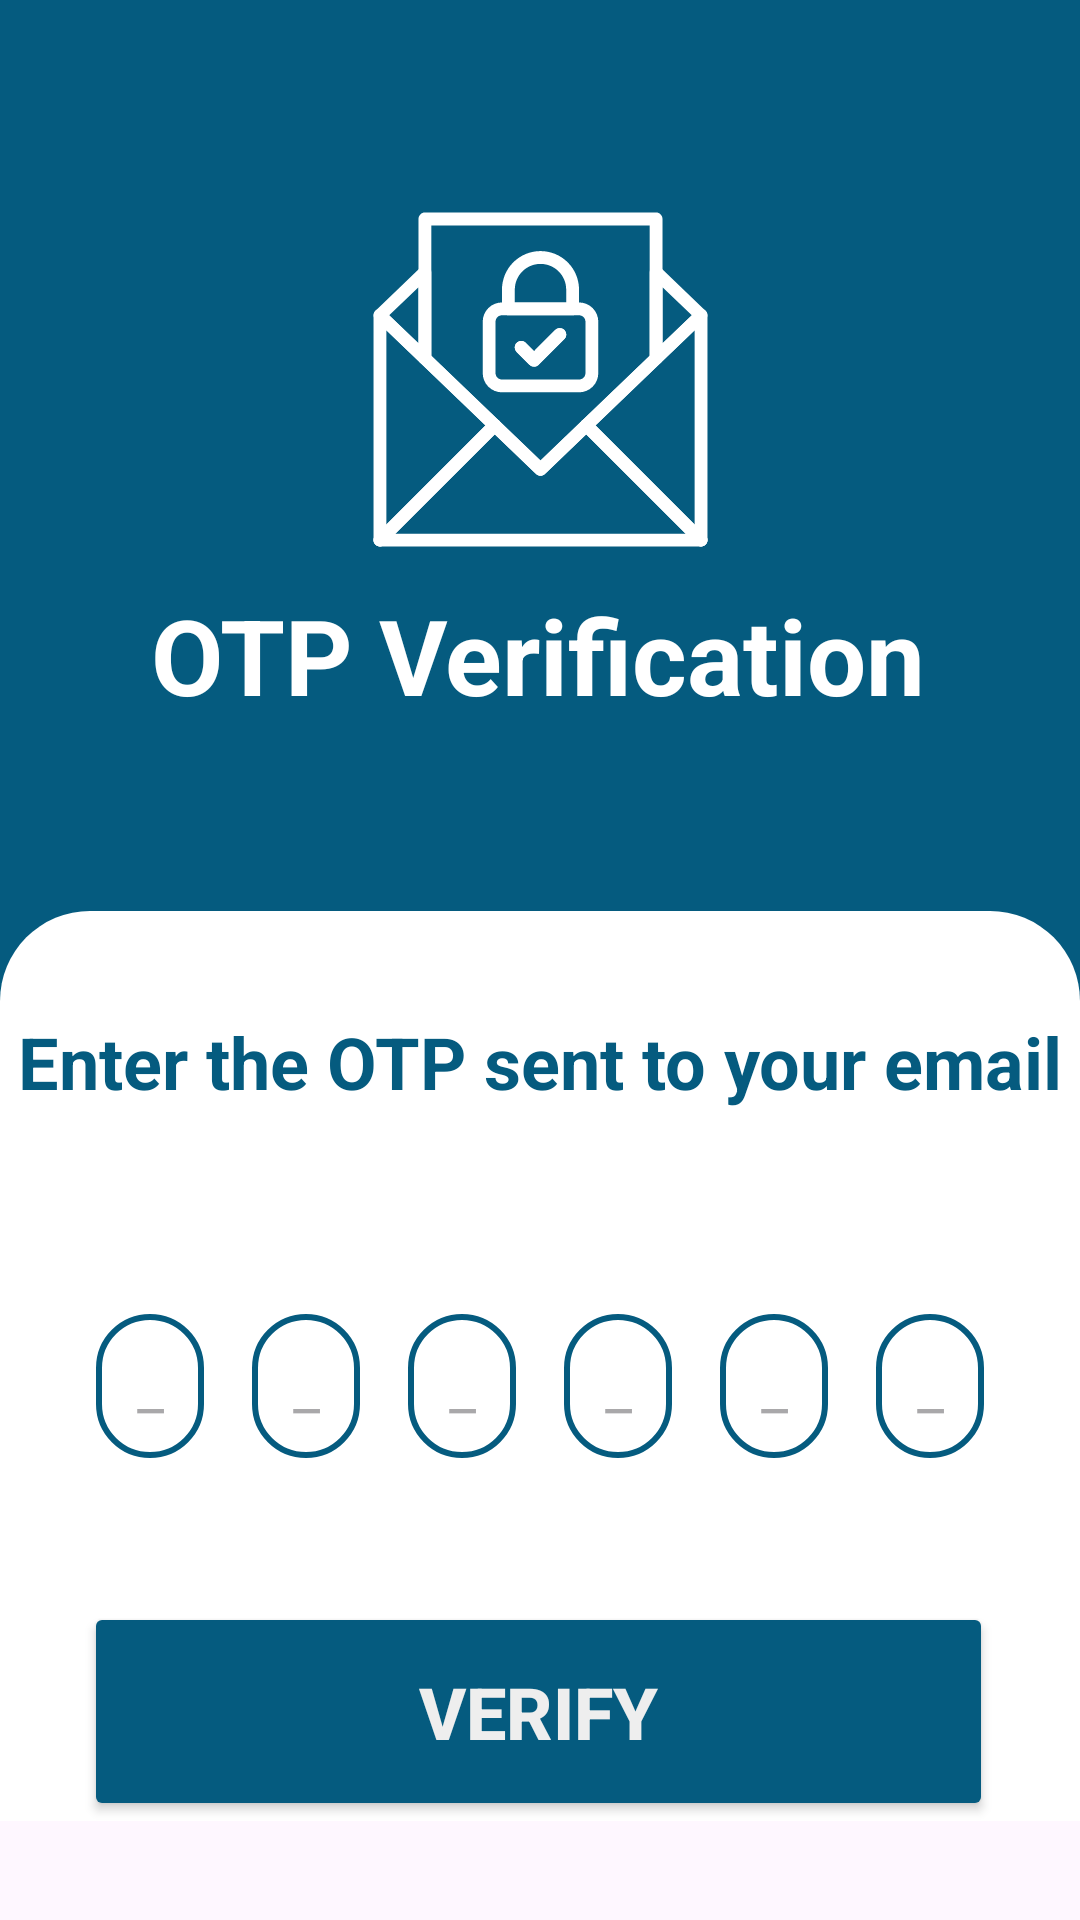

Icons on this 1080 x 1920 Android screen, each with the point to tap as (x,y):
secure mail: (540,379)
